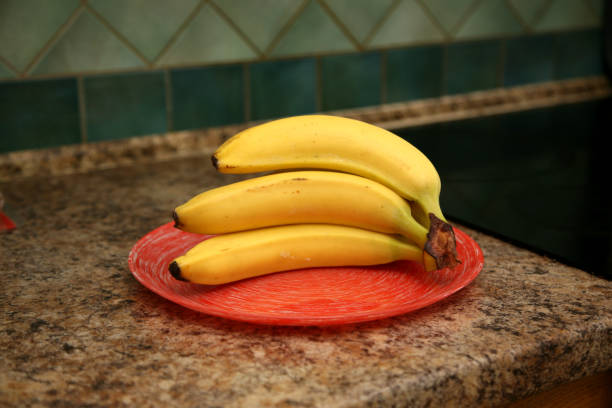banana: (167, 113, 465, 286)
